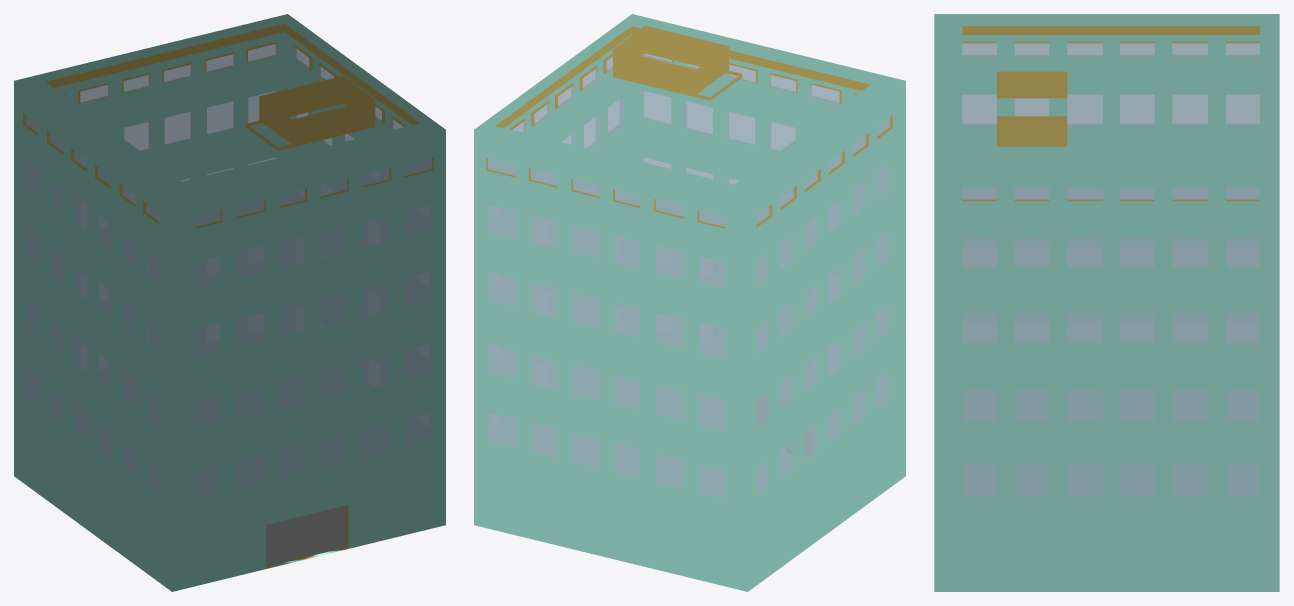
3 views of the same model, side by side, from view 1: azimuth 30°, elevation 25°; view 2: azimuth 150°, elevation 25°; view 3: azimuth 270°, elevation 25° (orthographic). The views are drawn at different scales.
Visible parts, largest first — view 1: Cube.028; view 2: Cube.028; view 3: Cube.028.
Boxes of the visible parts, box(x1,y1,x2,y2) form: Cube.028: box(14, 14, 445, 591); Cube.028: box(474, 14, 905, 591); Cube.028: box(934, 14, 1279, 591).
Bounding box in the file's own units: 55.15 × 79.89 × 55.15.
